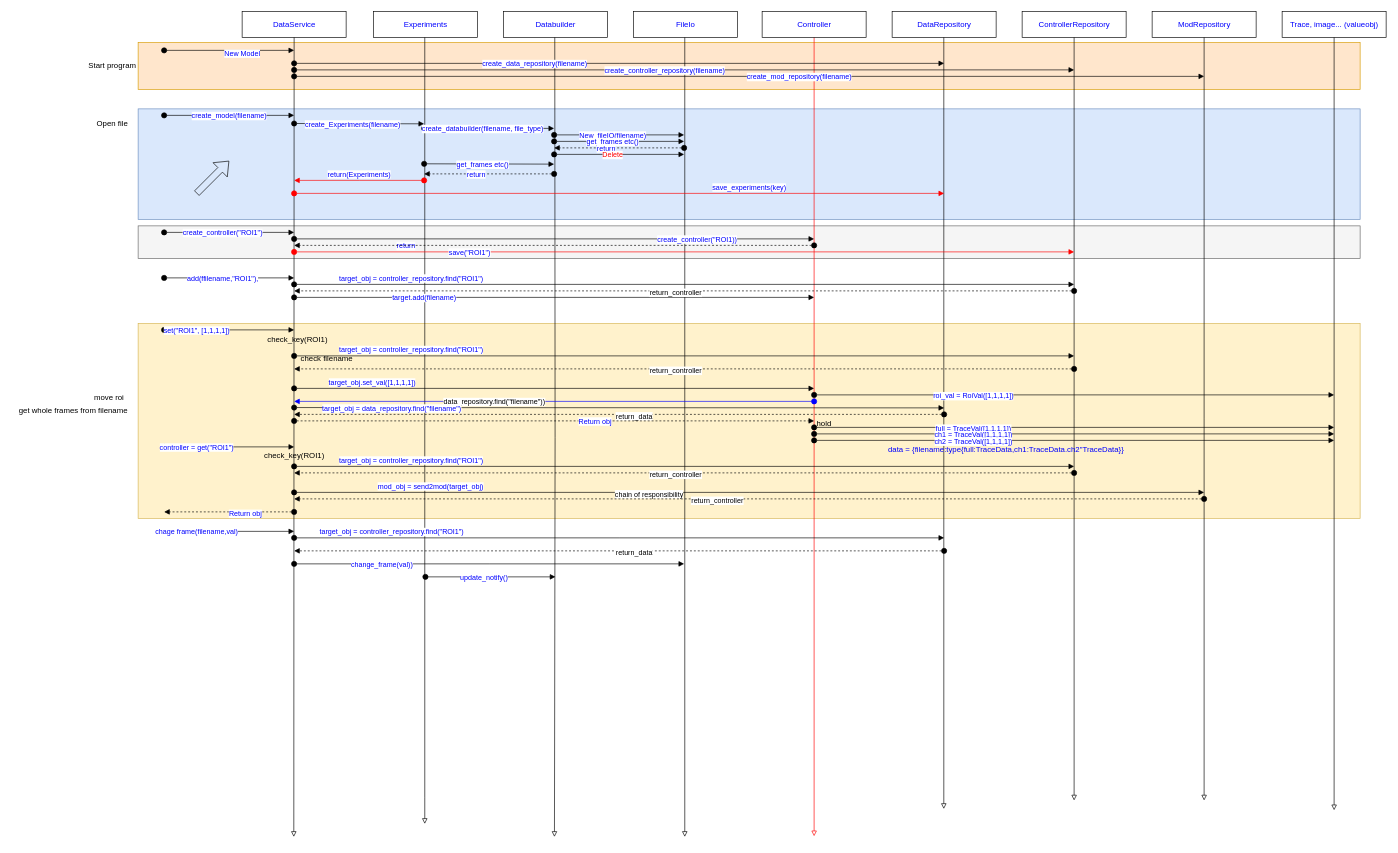
The diagram is 1398 pixels wide and 853 high, and some of its shapes have lost their labels. Each missing label, with the centre of its shape:
Constructor: pixel 748 65
TSM file: pixel 748 163
